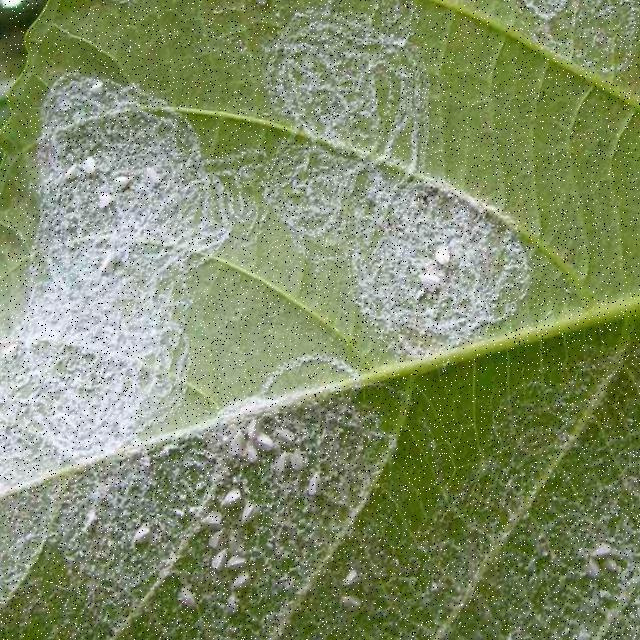Whiteflies: (19, 38, 547, 631)
